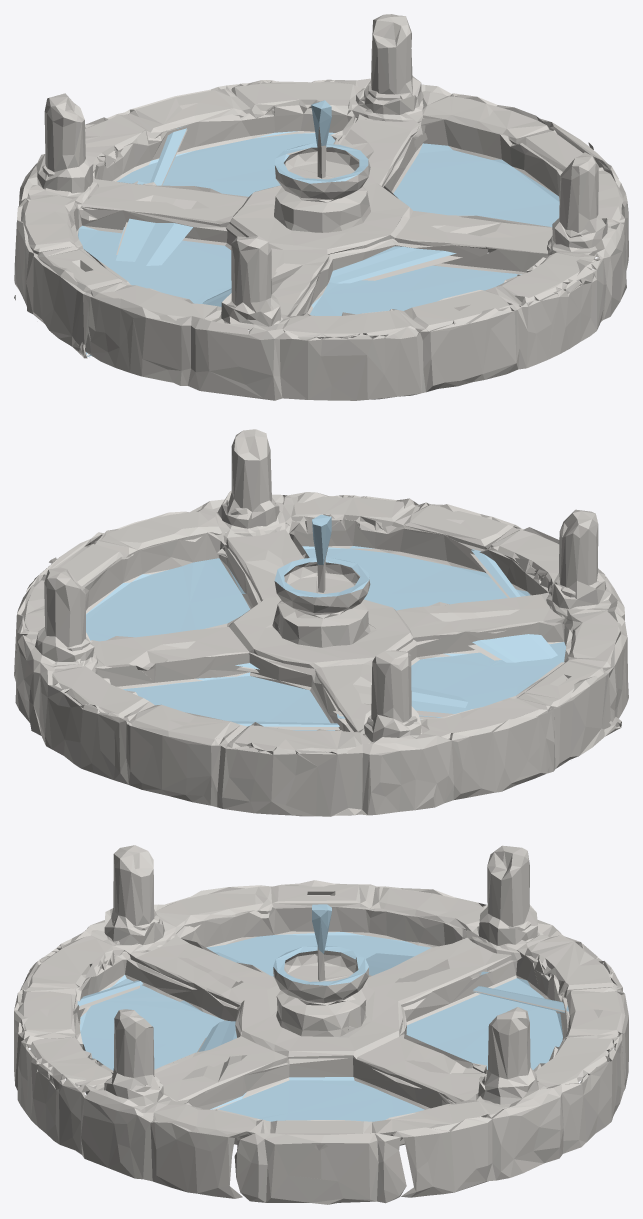
The model's file is fountain.glb.
The picture shows the model from 3 angles, top to bottom: view 1: azimuth 30°, elevation 25°; view 2: azimuth 150°, elevation 25°; view 3: azimuth 270°, elevation 25°; orthographic projection.
Visible parts, largest first — view 1: fountain; view 2: fountain; view 3: fountain.
Part boxes in pixels (<box>): fountain: <box>14,14,628,400</box>; fountain: <box>14,429,628,816</box>; fountain: <box>14,845,628,1204</box>.
Bounding box in the file's own units: 6.6 × 1.98 × 6.5.
